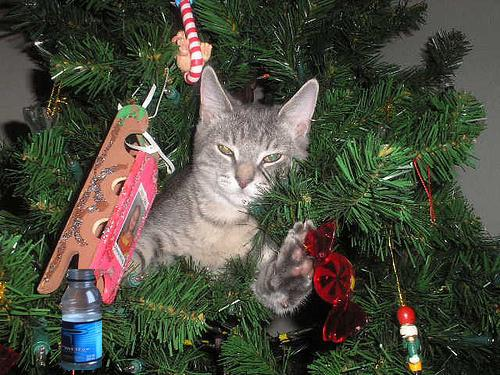tampered: (62, 270, 103, 370)
